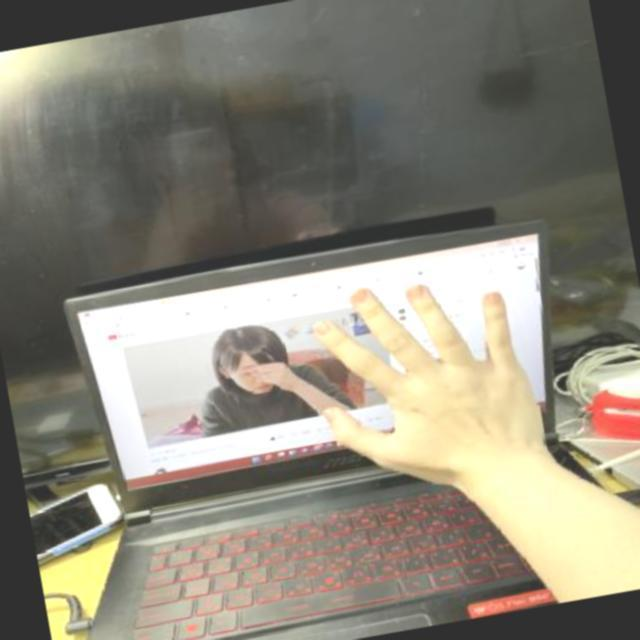hand: (286, 240, 578, 518)
